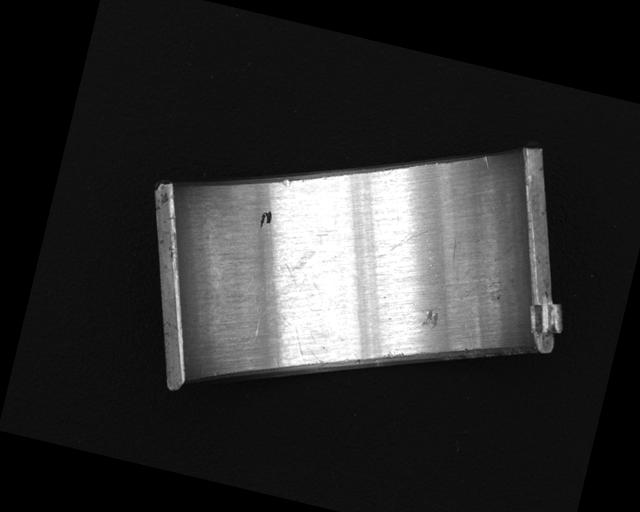blot: (270, 238, 324, 298), (258, 207, 274, 231)
bruise: (420, 307, 441, 331), (282, 177, 292, 187)
nick: (375, 217, 435, 271), (481, 154, 493, 169)
